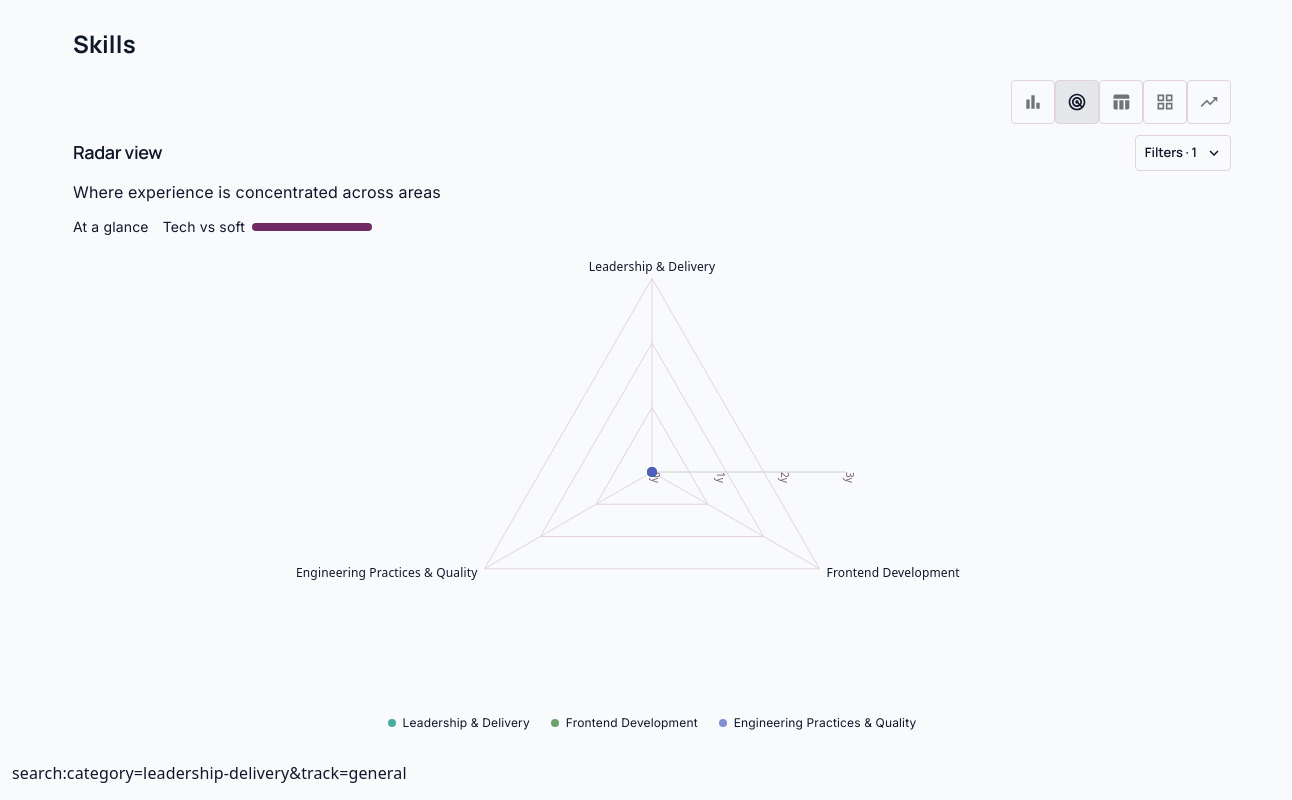
Test case: Skills › category filter URL sync › removes the category query param when the filter is cleared
Click the button "Filters · 1" at (1183, 153), box [1135,135,1231,171]
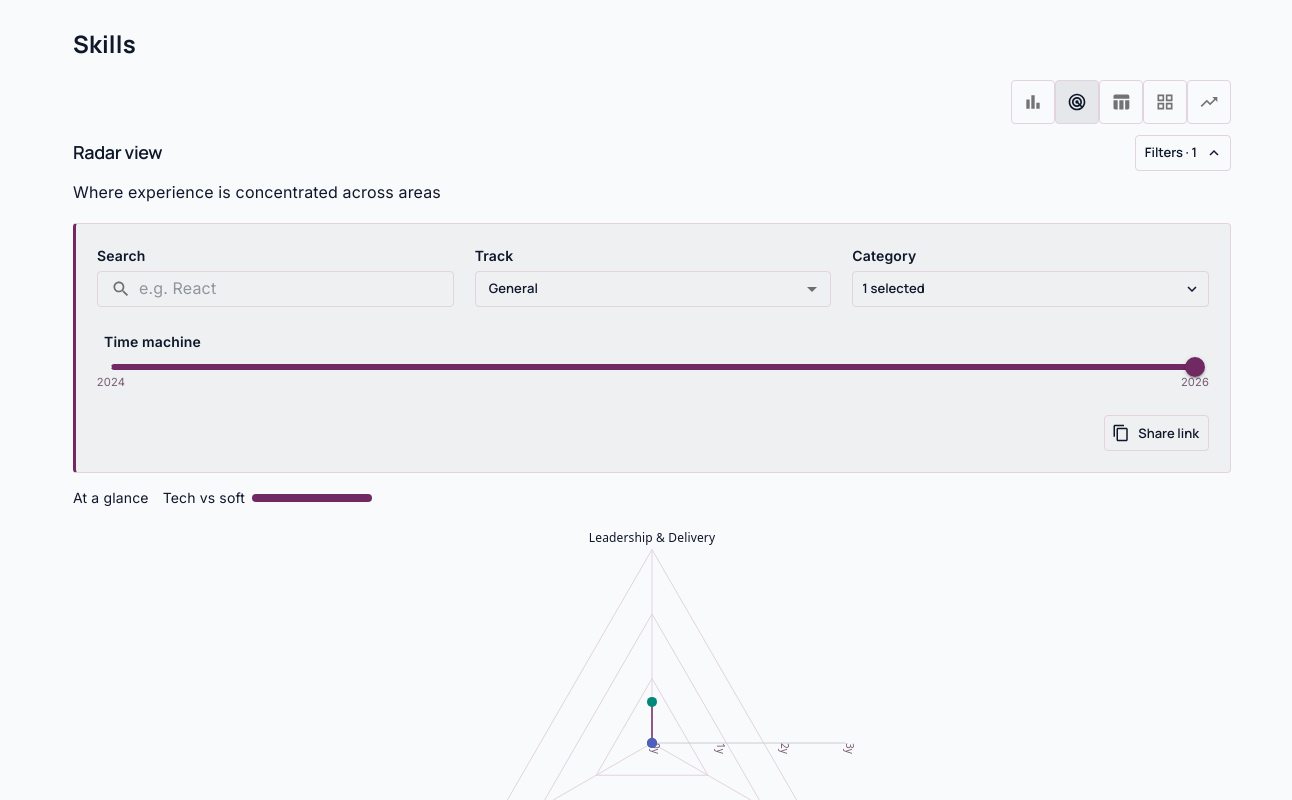
Click the button with aria-label "Filter skills by category, currently: 1 selected" at (893, 288), box [852,271,1209,307]
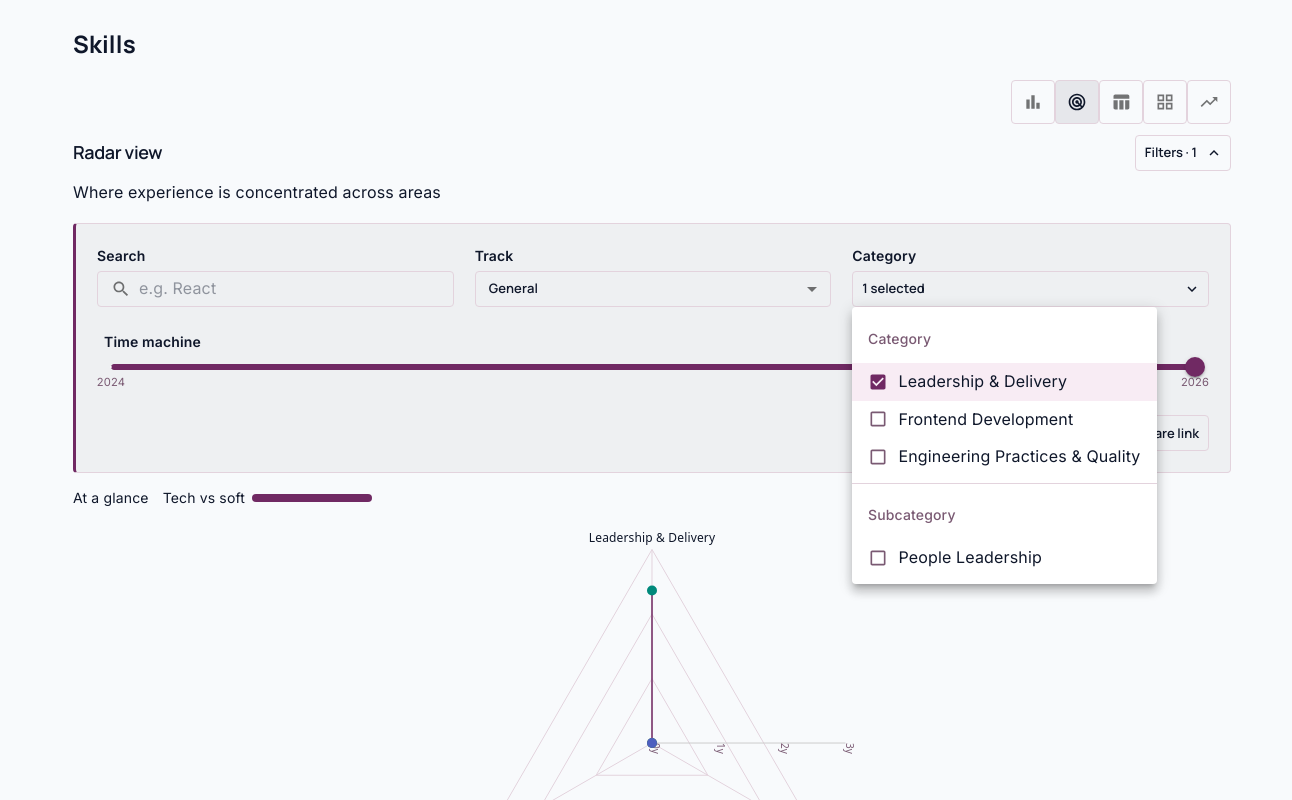
Click the menu item "Leadership & Delivery" at (1004, 382), box [852,363,1156,401]
(page scrolled)
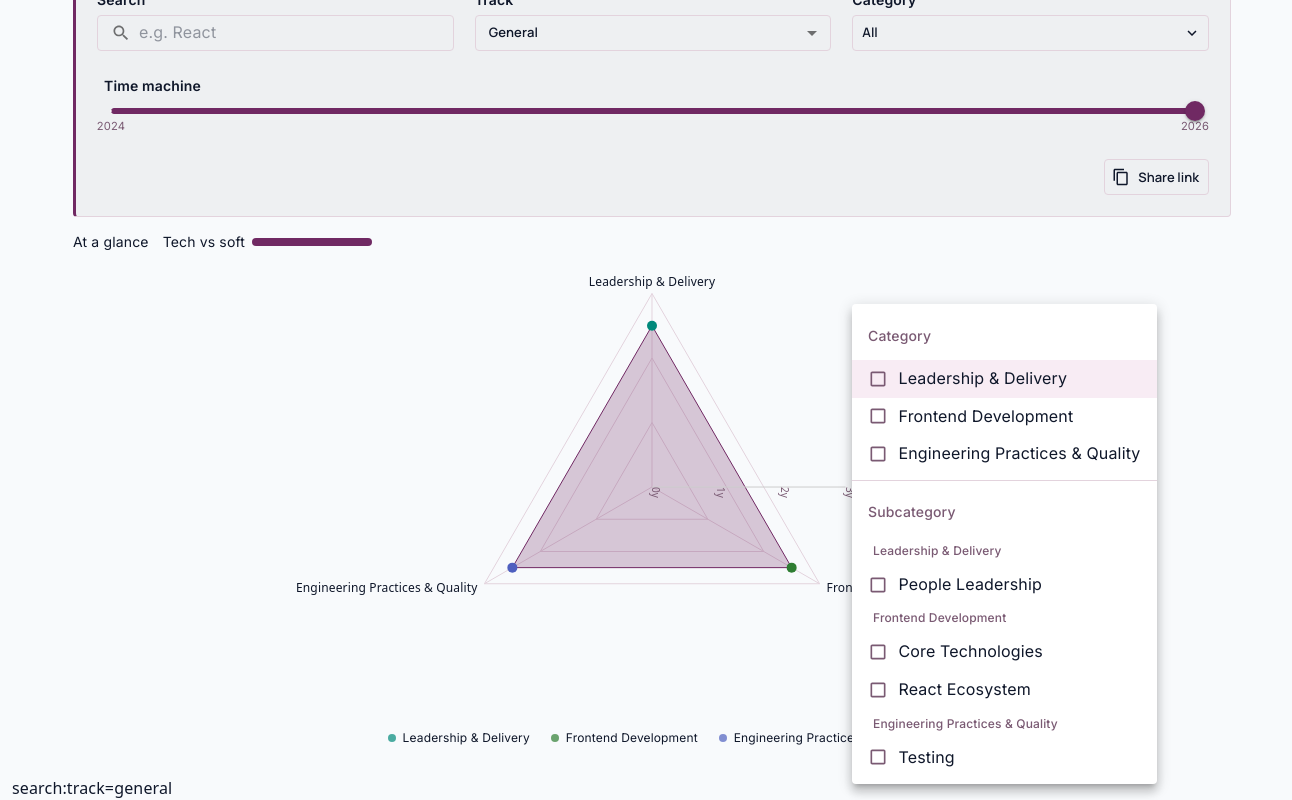
Check: the text "search:track=general" is shown, box [12,777,172,799]
